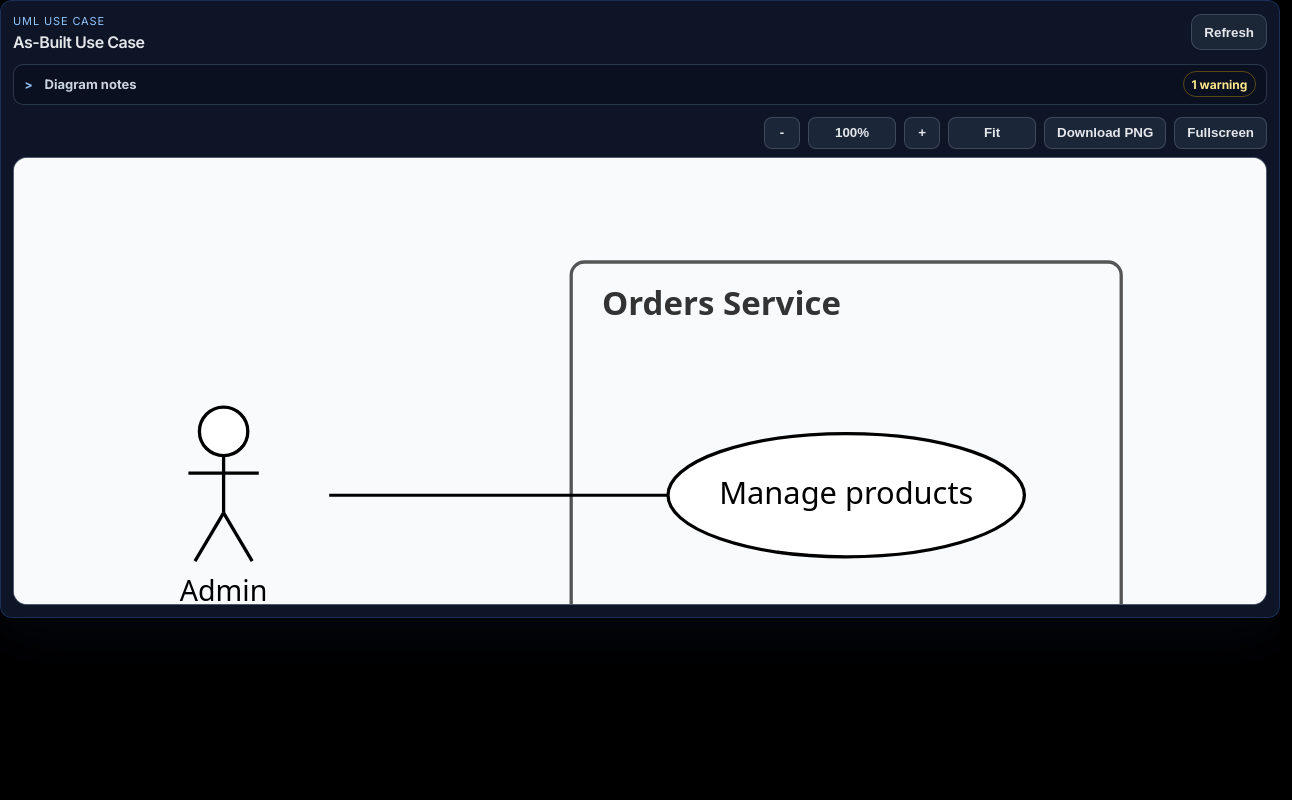
Test case: DiagramPanel › zooms the rendered diagram without reloading it
The image size is (1292, 800).
expect the button with test id "diagram-zoom-reset" reads "100%": met, box [808,116,896,148]
What coordinates should you click on to do the following:
click the button with test id "diagram-zoom-in"
I would click on:
 (922, 132)
Its box is [904,116,940,148].
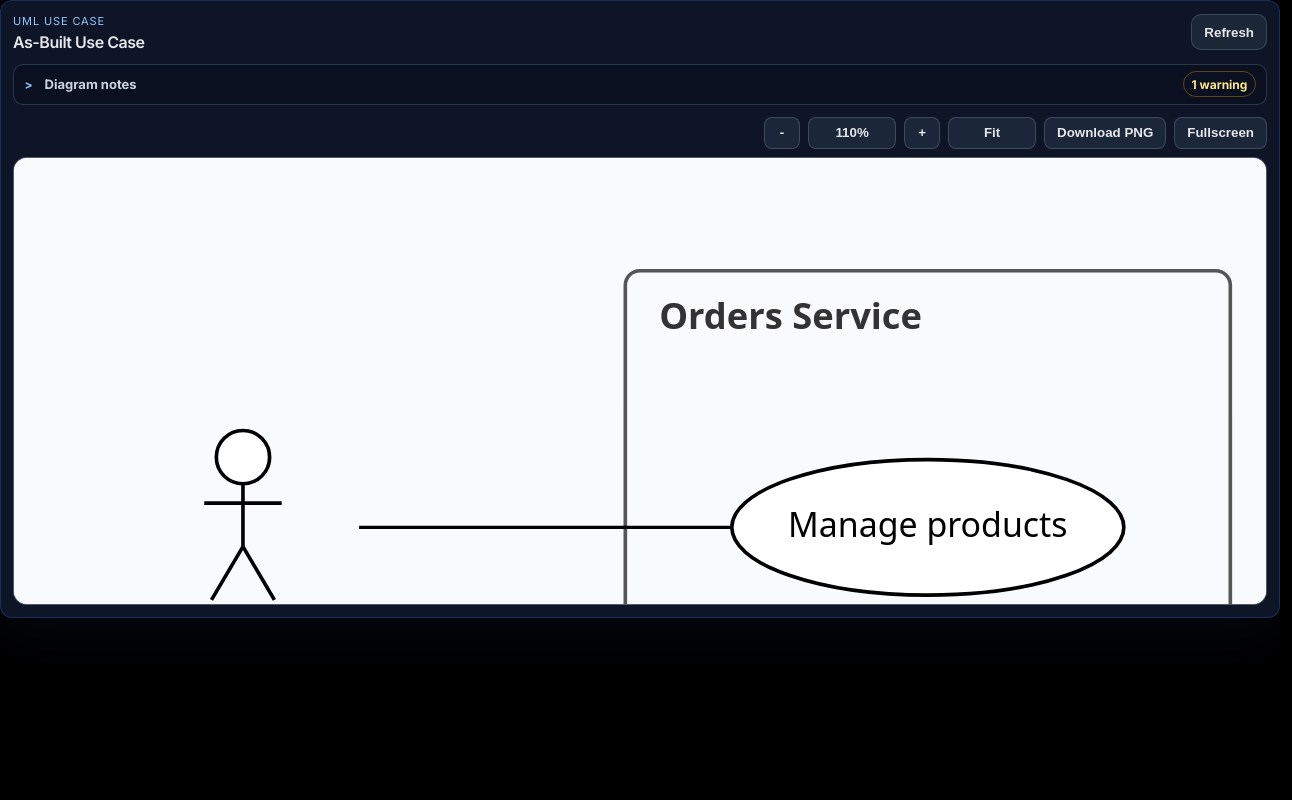
expect the button with test id "diagram-zoom-reset" reads "110%": met, box [808,116,896,148]
What coordinates should you click on to do the following:
click the button with test id "diagram-zoom-out"
I would click on:
 (782, 132)
Its box is [764,116,800,148].
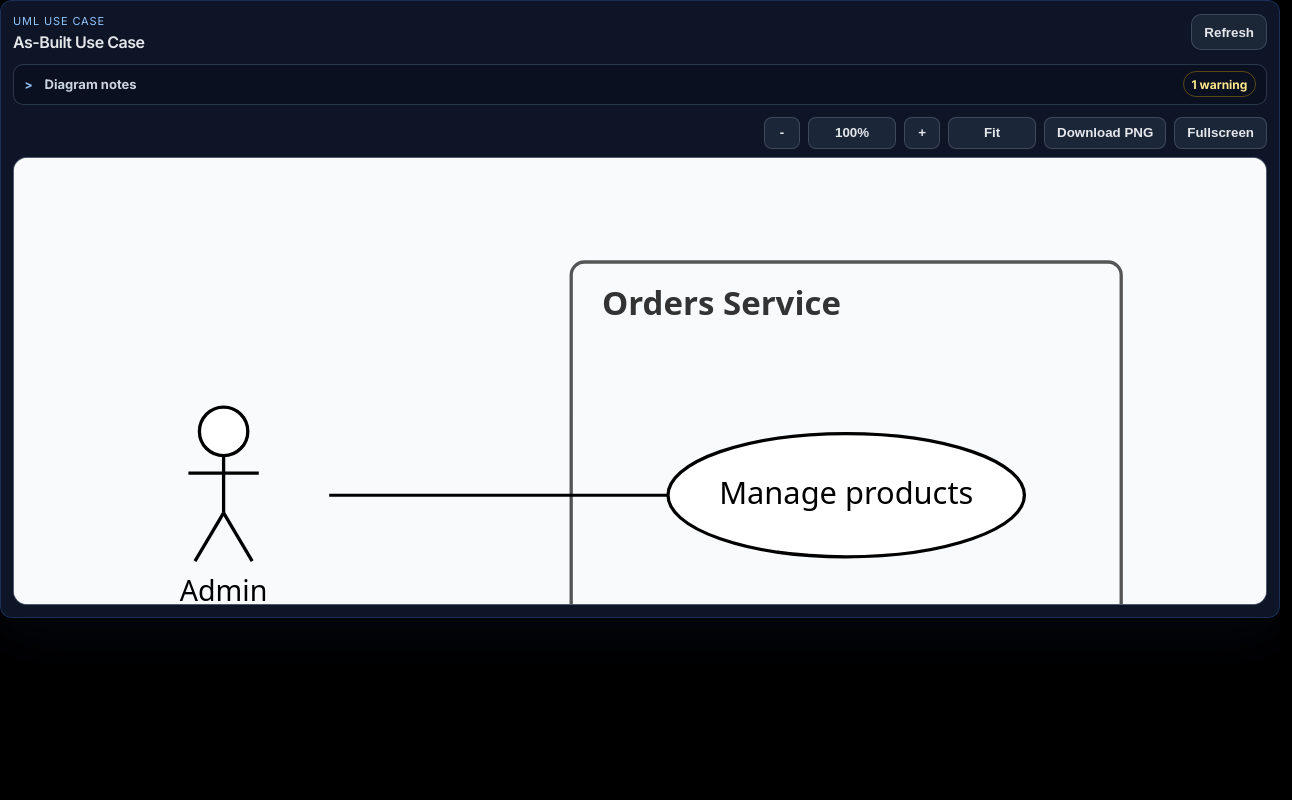
expect the button with test id "diagram-zoom-reset" reads "100%": met, box [808,116,896,148]
